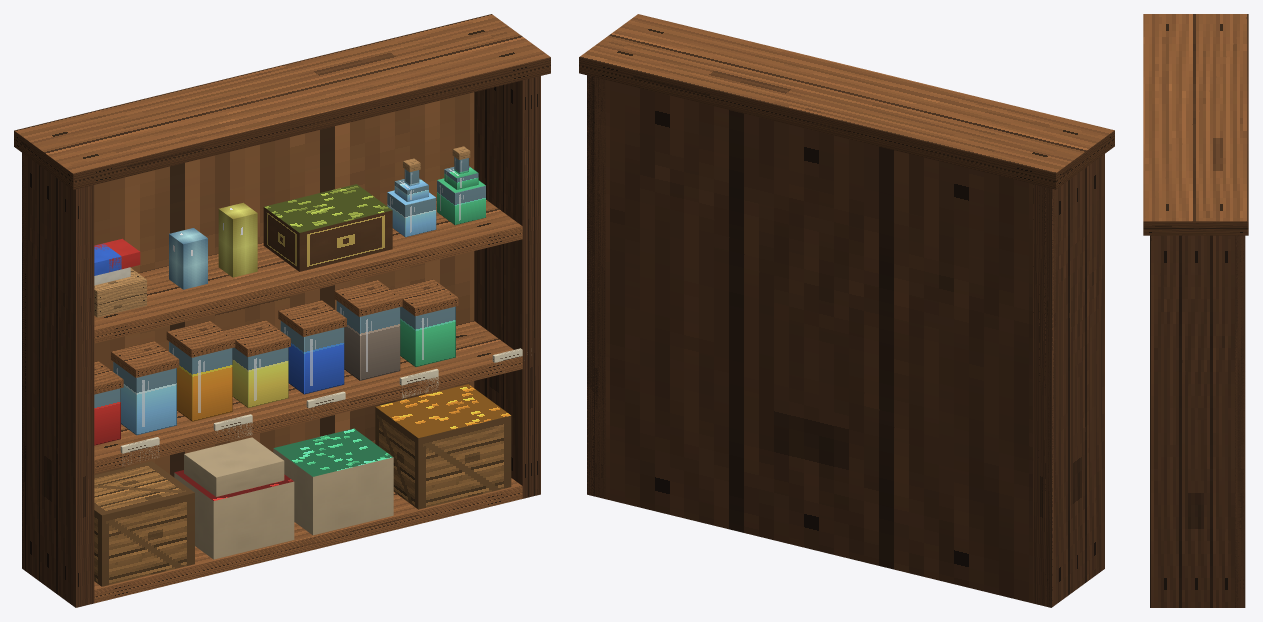
Rendered from ingredient_shelf.glb.
3 renders of one model, left to right at view 1: azimuth 30°, elevation 25°; view 2: azimuth 150°, elevation 25°; view 3: azimuth 270°, elevation 25°, orthographic. The views are drawn at different scales.
Visible parts, largest first — view 1: root; view 2: root; view 3: root.
Boxes of the visible parts, x1,y1,x2,y2 form: root: [14, 14, 550, 607]; root: [579, 14, 1114, 607]; root: [1143, 14, 1248, 607].
Bounding box in the file's own units: 208 × 182 × 44.55.
1 material, 1 textured.
